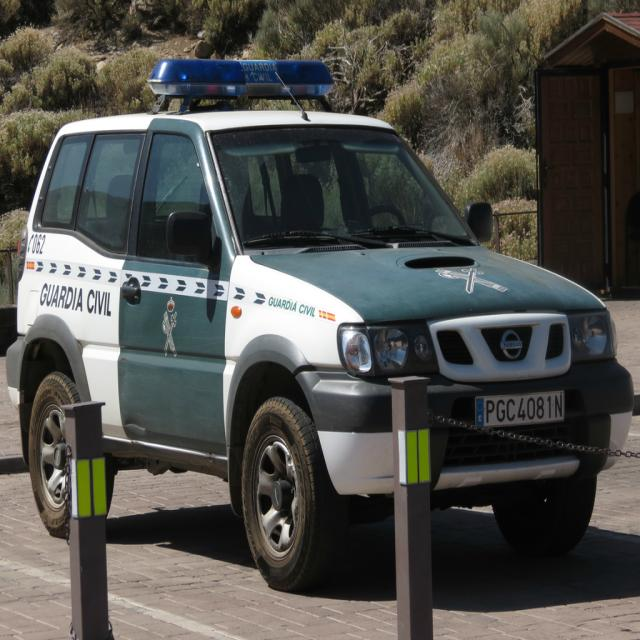Car: (5, 58, 635, 593)
